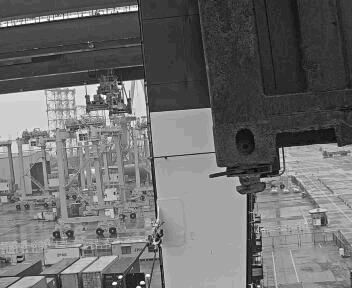twist_lock_1: (179, 162, 236, 201)
